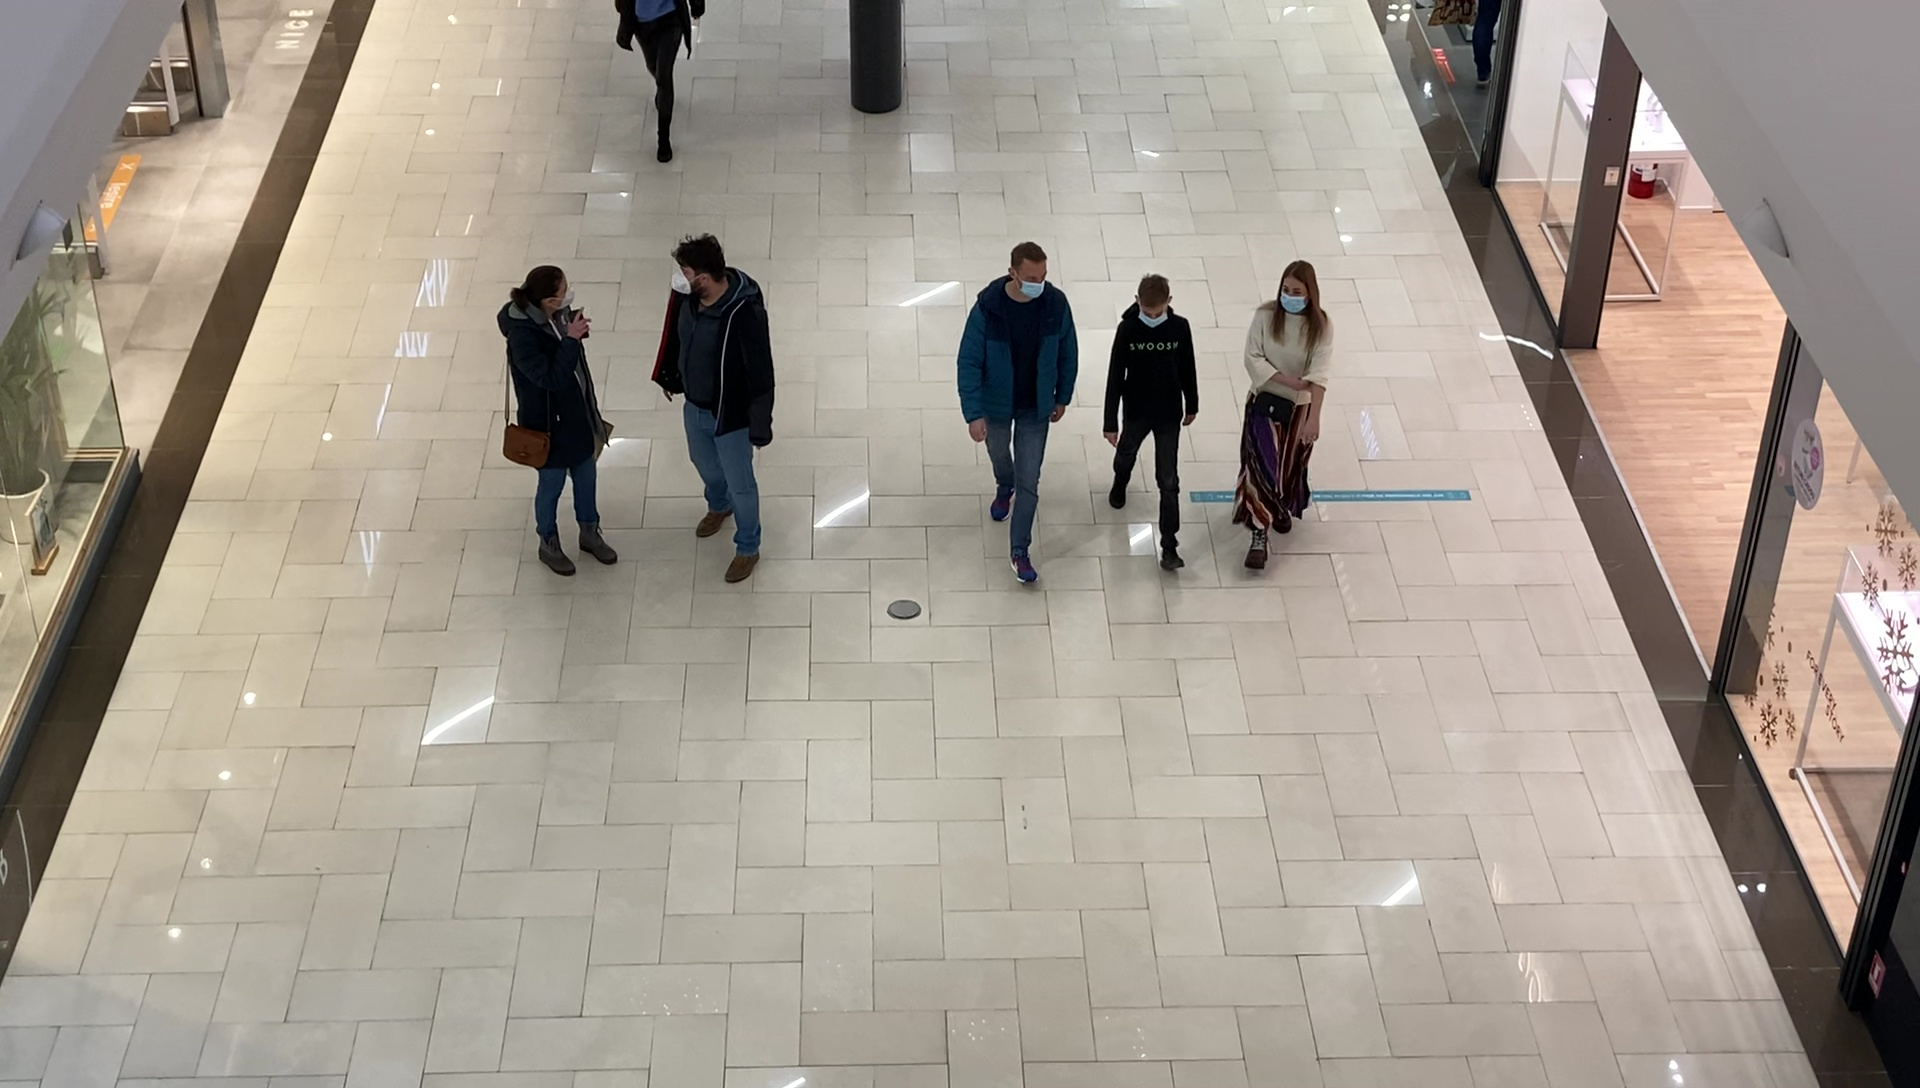person: (652, 235, 776, 585), (955, 241, 1079, 585), (496, 266, 617, 578), (1236, 259, 1333, 572), (1106, 274, 1198, 572), (611, 1, 708, 163)
